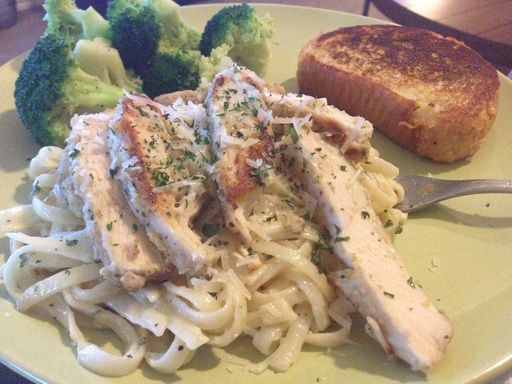background: (1, 0, 401, 227)
